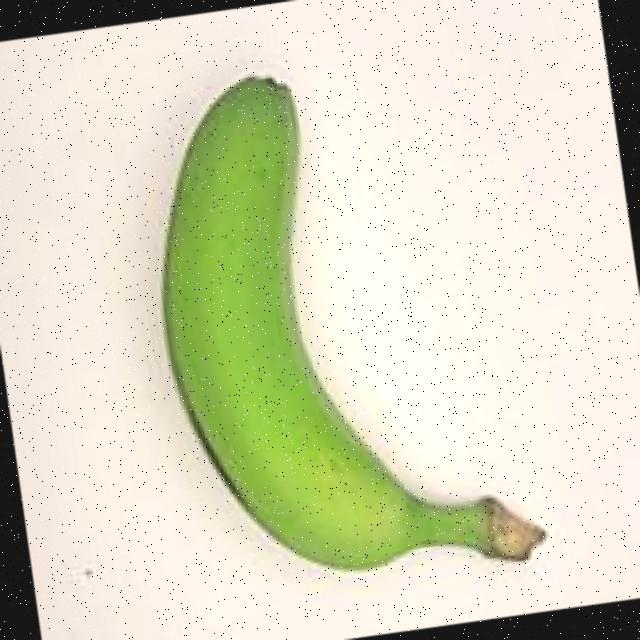Unripe: (73, 21, 586, 640)
